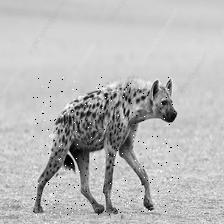hyena: (32, 78, 180, 218)
